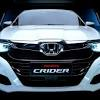Honda: (1, 9, 100, 92)
